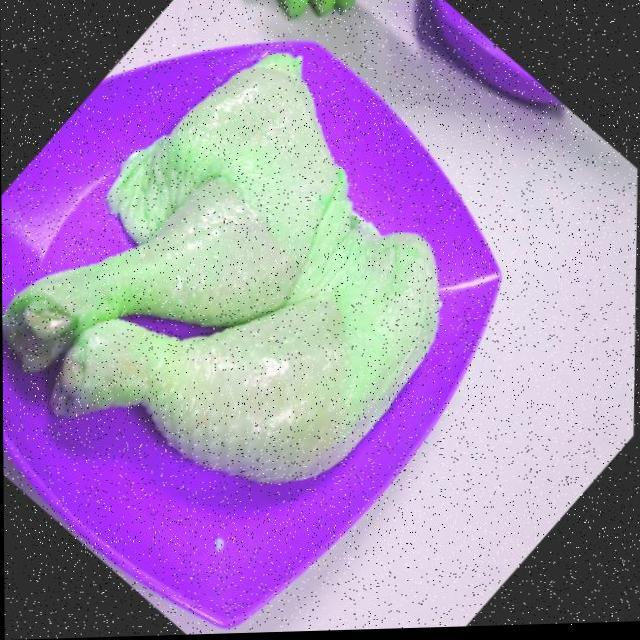quater: (73, 231, 444, 493), (27, 60, 320, 352)
